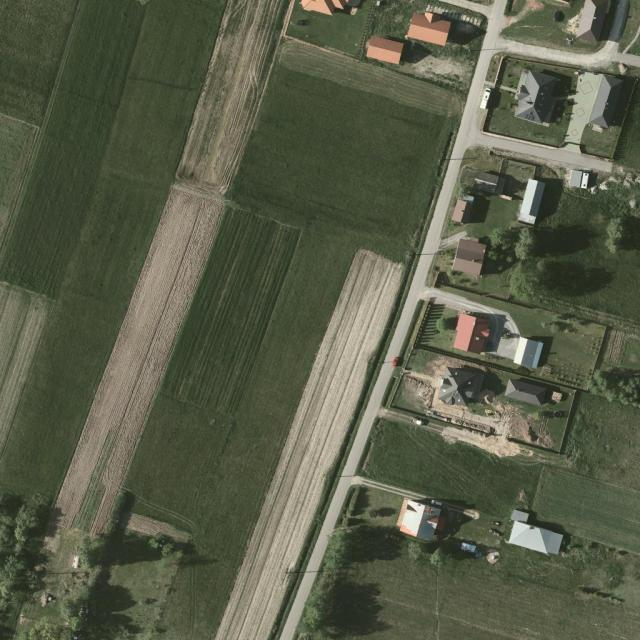building: (390, 489, 458, 550), (499, 510, 576, 562), (546, 3, 617, 47), (404, 3, 453, 49), (298, 0, 365, 23), (361, 35, 407, 68)
greenland: (297, 418, 640, 640), (529, 173, 640, 473), (0, 494, 194, 640), (621, 93, 640, 172)
metalled_road: (420, 288, 523, 358)
